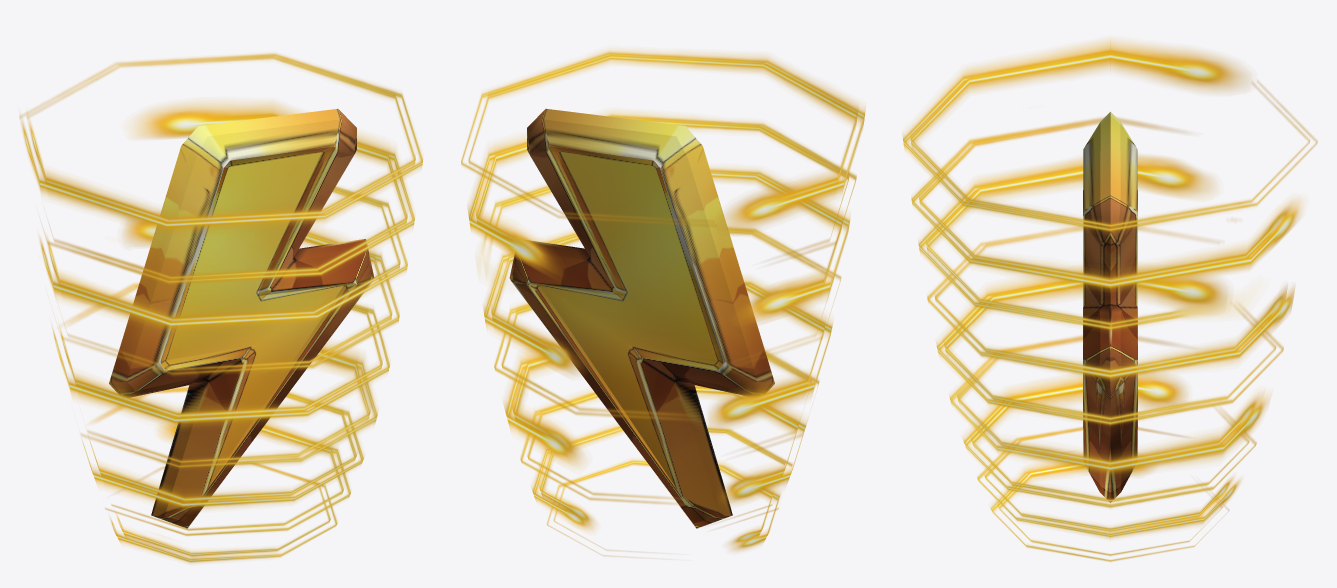
The model's file is powerup_speed_floor.glb.
3 views of the same model, side by side, from view 1: azimuth 30°, elevation 25°; view 2: azimuth 150°, elevation 25°; view 3: azimuth 270°, elevation 25° (orthographic).
Parts seen in each view (by area): view 1: Spped.001, Lightray 1.001, Lightray 2.001; view 2: Spped.001, Lightray 1.001, Lightray 2.001; view 3: Lightray 1.001, Lightray 2.001, Spped.001.
Part boxes in pixels (x1,y1,x2,y2): Spped.001: [109, 108, 374, 528]; Lightray 1.001: [19, 53, 422, 563]; Lightray 2.001: [42, 102, 414, 535]; Spped.001: [509, 108, 774, 528]; Lightray 1.001: [461, 50, 865, 556]; Lightray 2.001: [467, 111, 856, 530]; Lightray 1.001: [902, 38, 1317, 561]; Lightray 2.001: [911, 117, 1301, 539]; Spped.001: [1083, 112, 1137, 502].
Bounding box in the file's own units: 0.8541 × 0.9421 × 0.8541.
2 materials, 2 textured.
